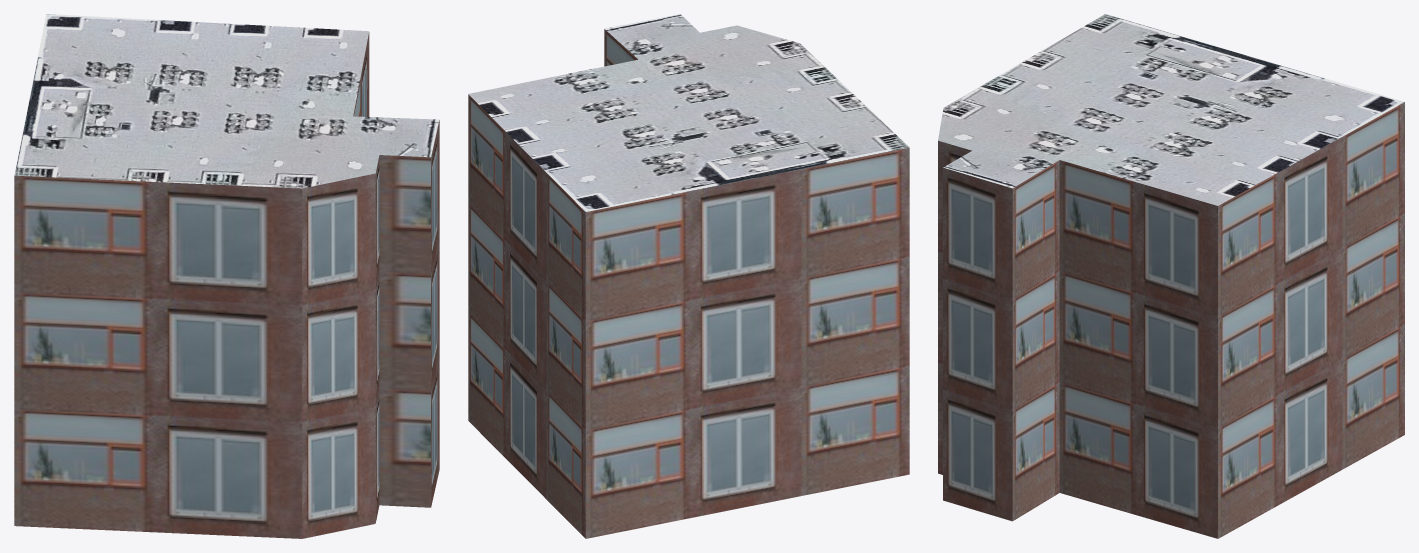
File: ResTex__3836.fbx
3 renders of one model, left to right at view 1: azimuth 30°, elevation 25°; view 2: azimuth 150°, elevation 25°; view 3: azimuth 270°, elevation 25°, orthographic. The views are drawn at different scales.
Parts seen in each view (by area): view 1: CityEngineMaterial_19_m, CityEngineMaterial_15_m; view 2: CityEngineMaterial_19_m, CityEngineMaterial_15_m; view 3: CityEngineMaterial_19_m, CityEngineMaterial_15_m.
Part boxes in pixels (x1,y1,x2,y2): CityEngineMaterial_19_m: (14,32,439,538); CityEngineMaterial_15_m: (14,14,439,188); CityEngineMaterial_19_m: (468,29,909,538); CityEngineMaterial_15_m: (468,14,909,211); CityEngineMaterial_19_m: (938,102,1404,538); CityEngineMaterial_15_m: (938,14,1404,205).
Bounding box in the file's own units: 11.13 × 9 × 11.44.
2 materials, 2 textured.
